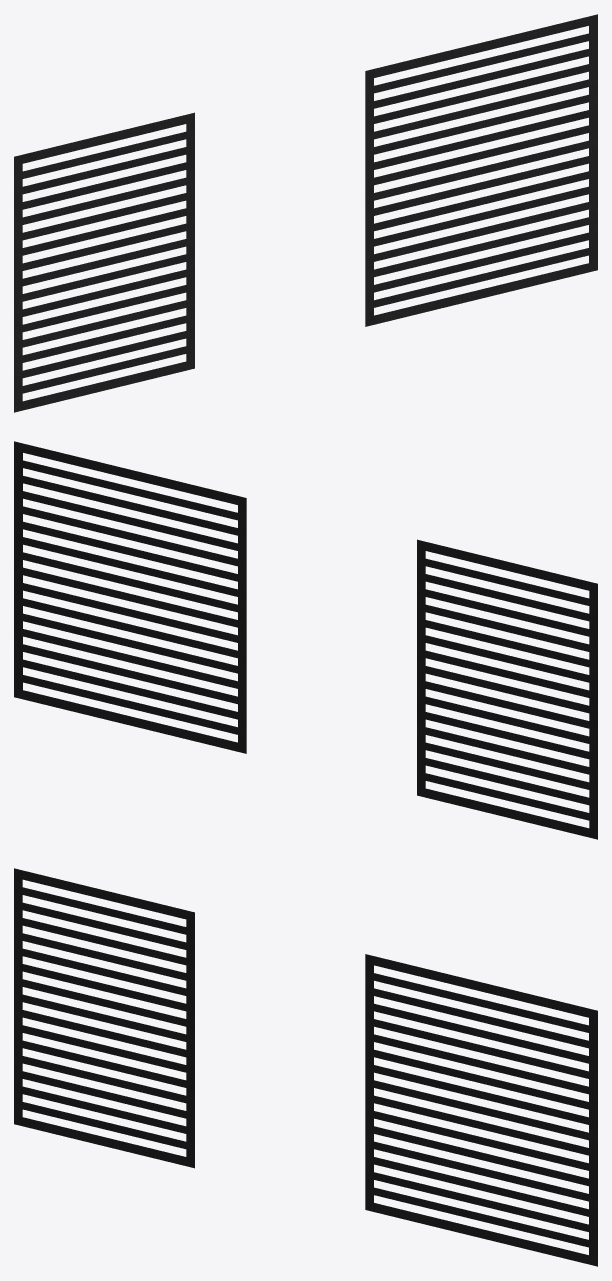
File: rejas.obj
3 renders of one model, top to bottom at view 1: azimuth 30°, elevation 25°; view 2: azimuth 150°, elevation 25°; view 3: azimuth 330°, elevation 25°, orthographic.
Parts seen in each view (by area): view 1: rejas_Plane.009; view 2: rejas_Plane.009; view 3: rejas_Plane.009.
Boxes of the visible parts, x1,y1,x2,y2 form: rejas_Plane.009: (14, 14, 597, 412); rejas_Plane.009: (14, 441, 597, 839); rejas_Plane.009: (14, 868, 597, 1266).
Size of the model in its own units: 23.88 by 10 by 0.
Materials: 1 (1 with a texture image).
